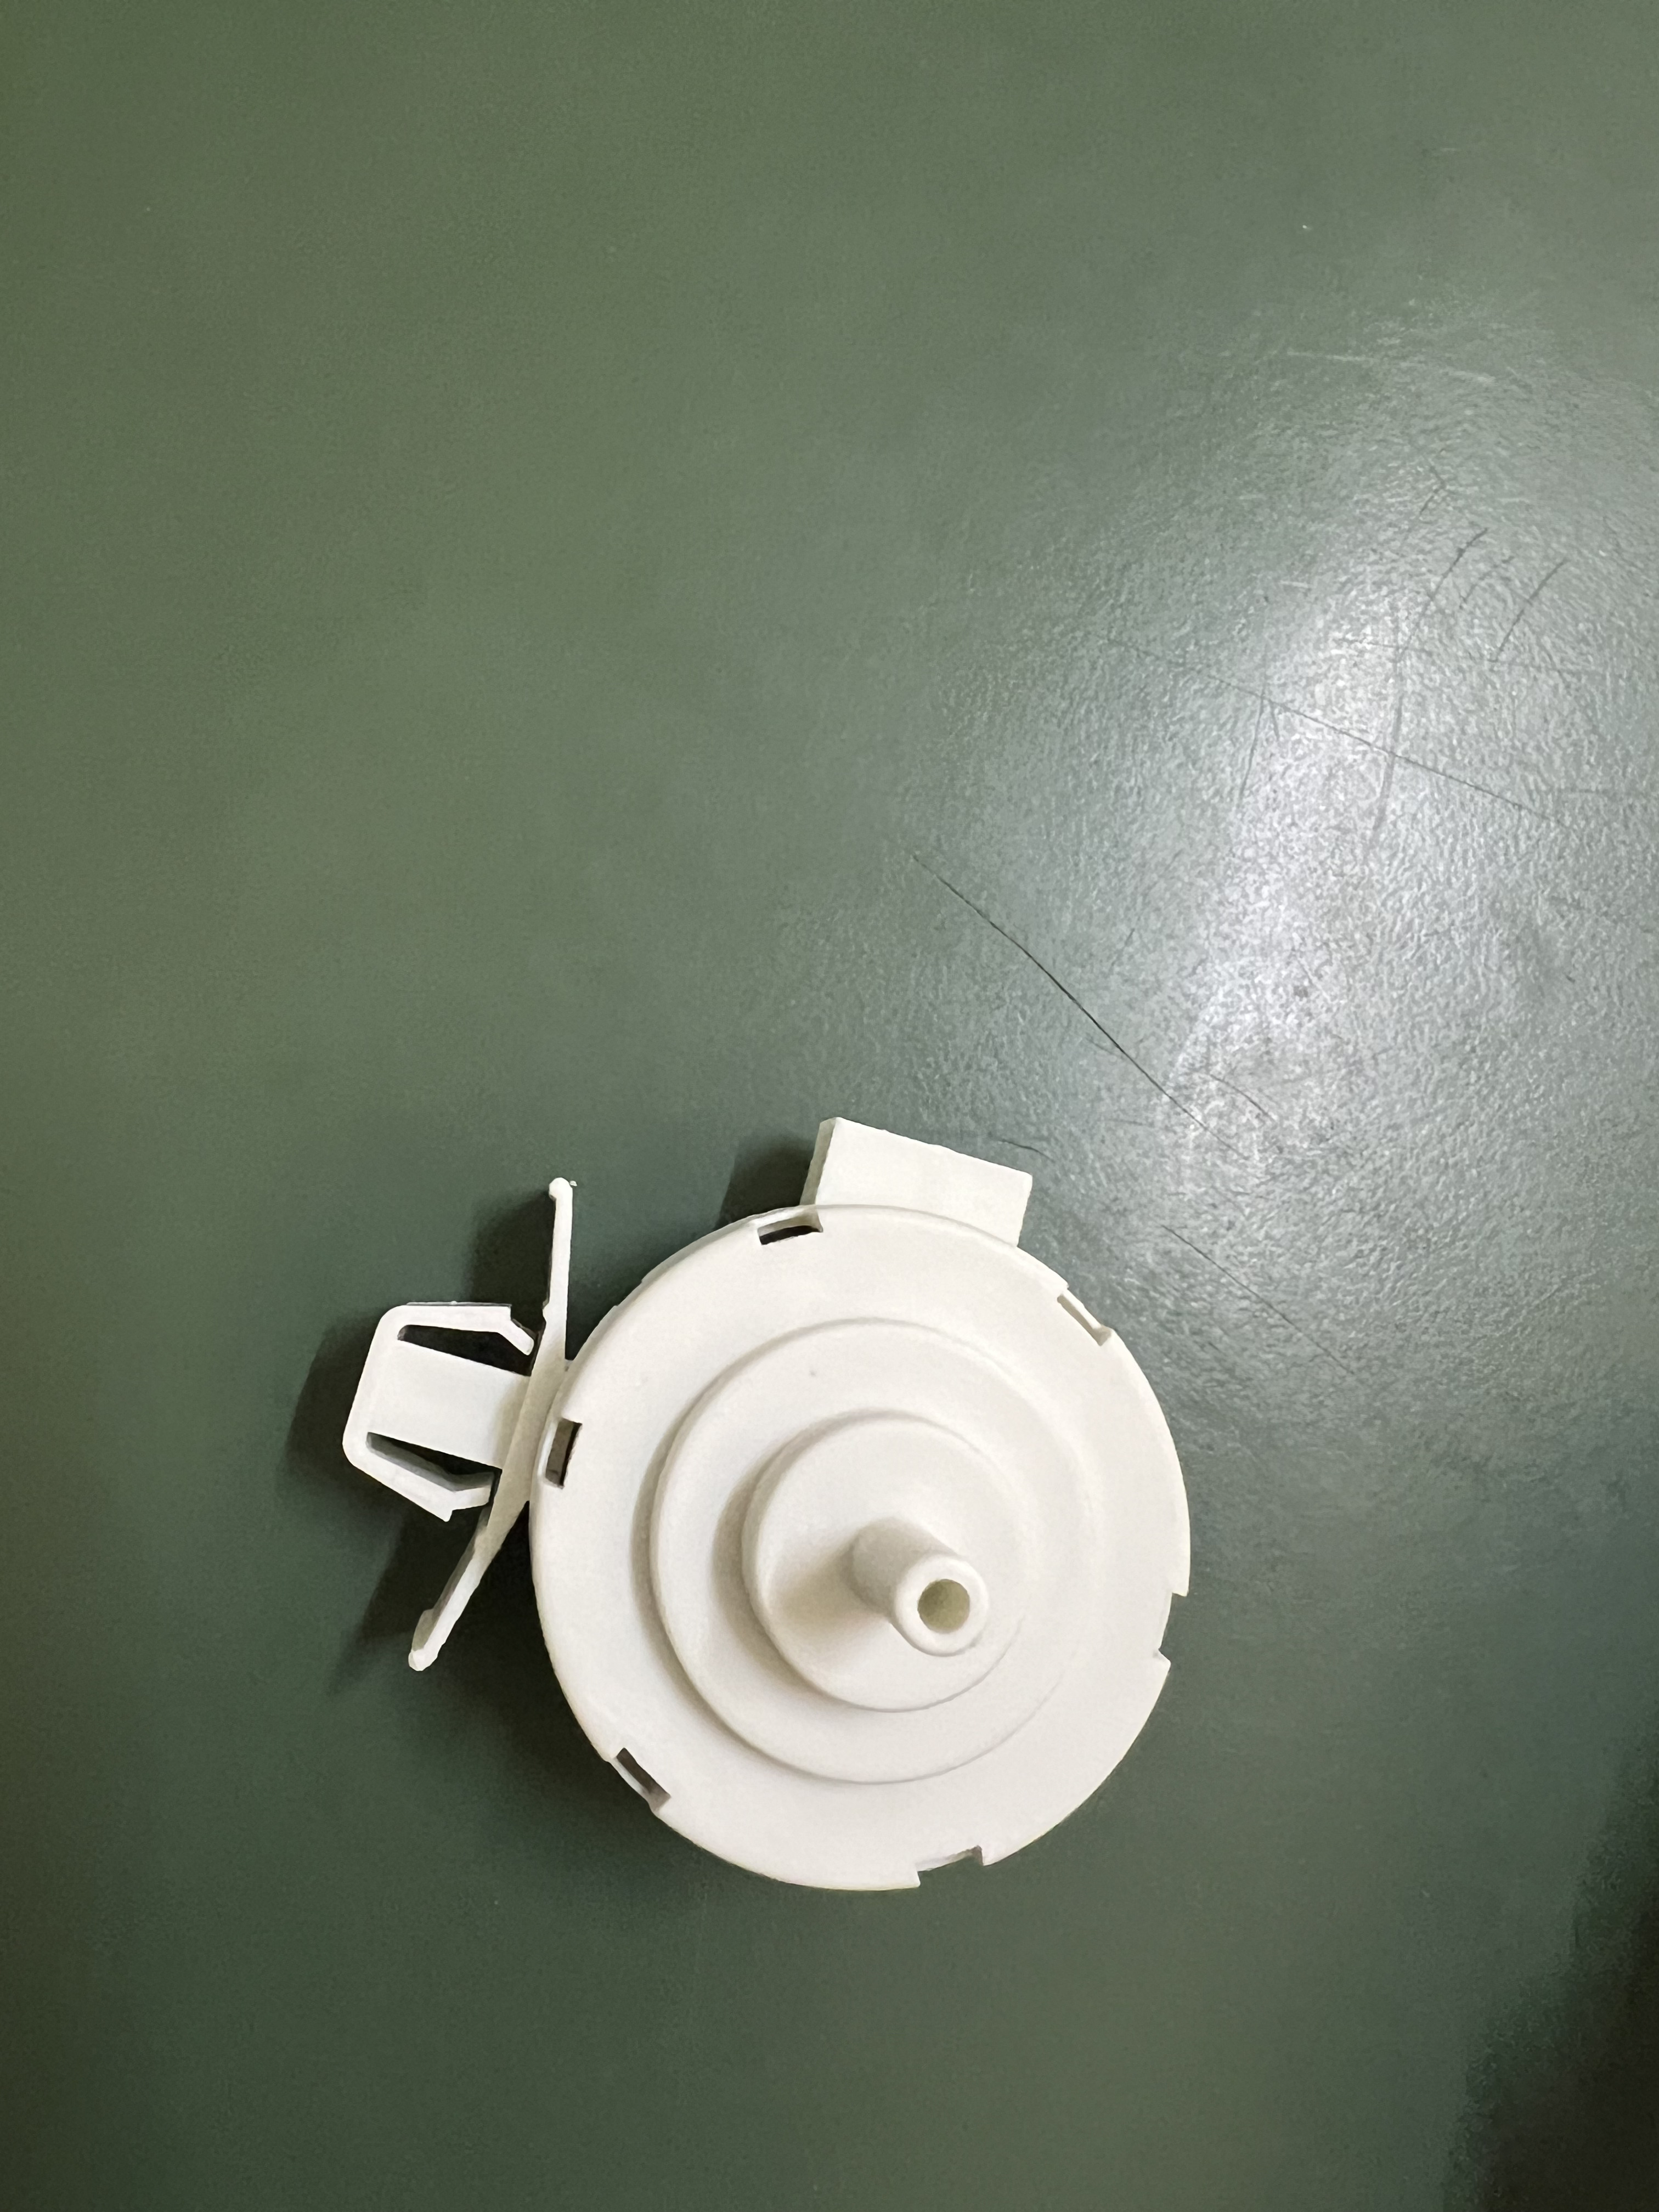pressure_switch_2: (340, 1111, 1230, 1952)
